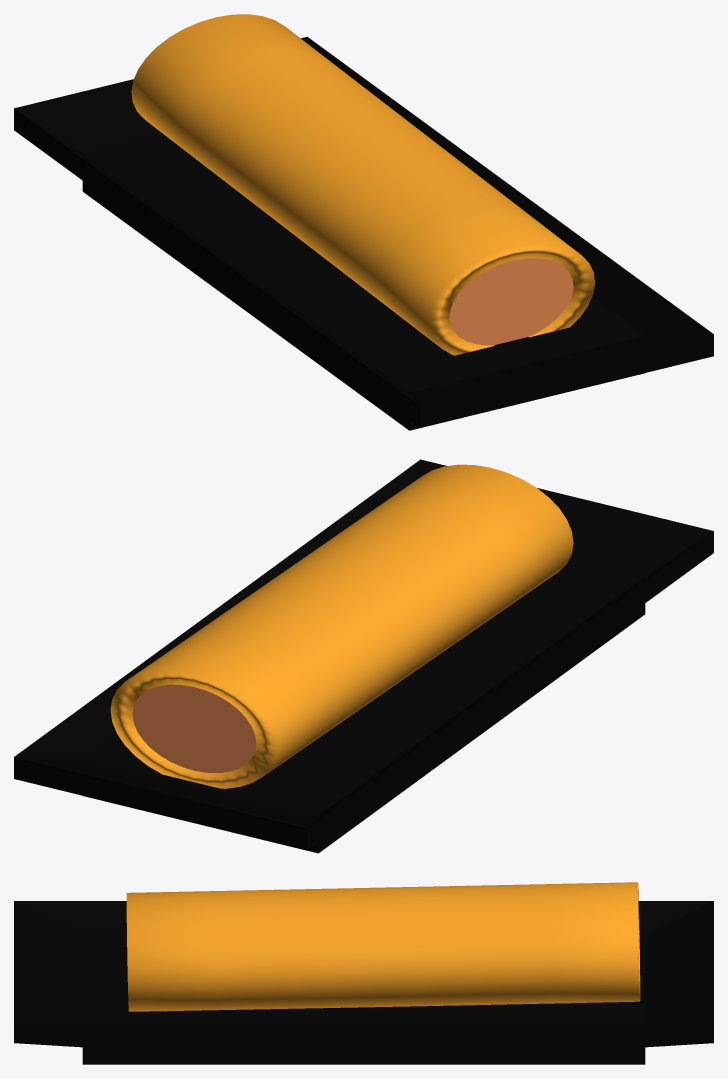
The model's file is ROTI GULUNG ORIGINAL  .fbx.
3 views of the same model, one above another, from view 1: azimuth 30°, elevation 25°; view 2: azimuth 150°, elevation 25°; view 3: azimuth 270°, elevation 25° (orthographic). The views are drawn at different scales.
Visible parts, largest first — view 1: Cube, Cylinder.003, Cylinder.002; view 2: Cube, Cylinder.003, Cylinder.002; view 3: Cylinder.003, Cube.
Part boxes in pixels (x1=…): Cube: x1=14, y1=36, x2=713, y2=430; Cylinder.003: x1=131, y1=14, x2=594, y2=355; Cylinder.002: x1=449, y1=258, x2=573, y2=345; Cube: x1=14, y1=459, x2=713, y2=853; Cylinder.003: x1=110, y1=464, x2=573, y2=788; Cylinder.002: x1=132, y1=684, x2=256, y2=772; Cylinder.003: x1=126, y1=882, x2=640, y2=1011; Cube: x1=14, y1=901, x2=713, y2=1064.
Bounding box in the file's own units: 118 × 56.04 × 283.
